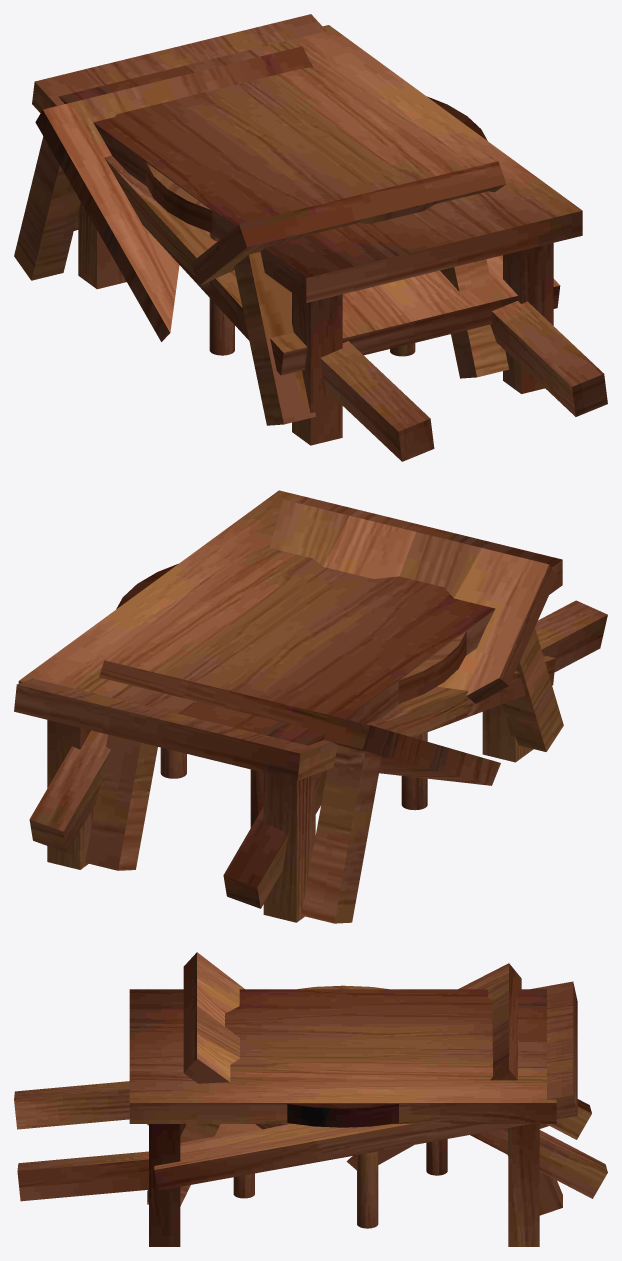
File: tables.fbx
The picture shows the model from 3 angles, top to bottom: view 1: azimuth 30°, elevation 25°; view 2: azimuth 150°, elevation 25°; view 3: azimuth 270°, elevation 25°; orthographic projection. The views are drawn at different scales.
Parts seen in each view (by area): view 1: table, table.002, table.001, table.003; view 2: table, table.002, table.001, table.003; view 3: table, table.001, table.002, table.003.
Part boxes in pixels (x1=…): table: x1=58, y1=25, x2=582, y2=445; table.002: x1=14, y1=46, x2=508, y2=425; table.001: x1=32, y1=14, x2=607, y2=461; table.003: x1=146, y1=96, x2=487, y2=356; table: x1=18, y1=490, x2=562, y2=922; table.002: x1=85, y1=499, x2=563, y2=923; table.001: x1=14, y1=600, x2=607, y2=908; table.003: x1=116, y1=563, x2=466, y2=827; table: x1=129, y1=989, x2=556, y2=1246; table.001: x1=14, y1=981, x2=607, y2=1201; table.002: x1=147, y1=952, x2=562, y2=1215; table.003: x1=233, y1=985, x2=447, y2=1228.
Bounding box in the file's own units: 113 × 69.99 × 212.
